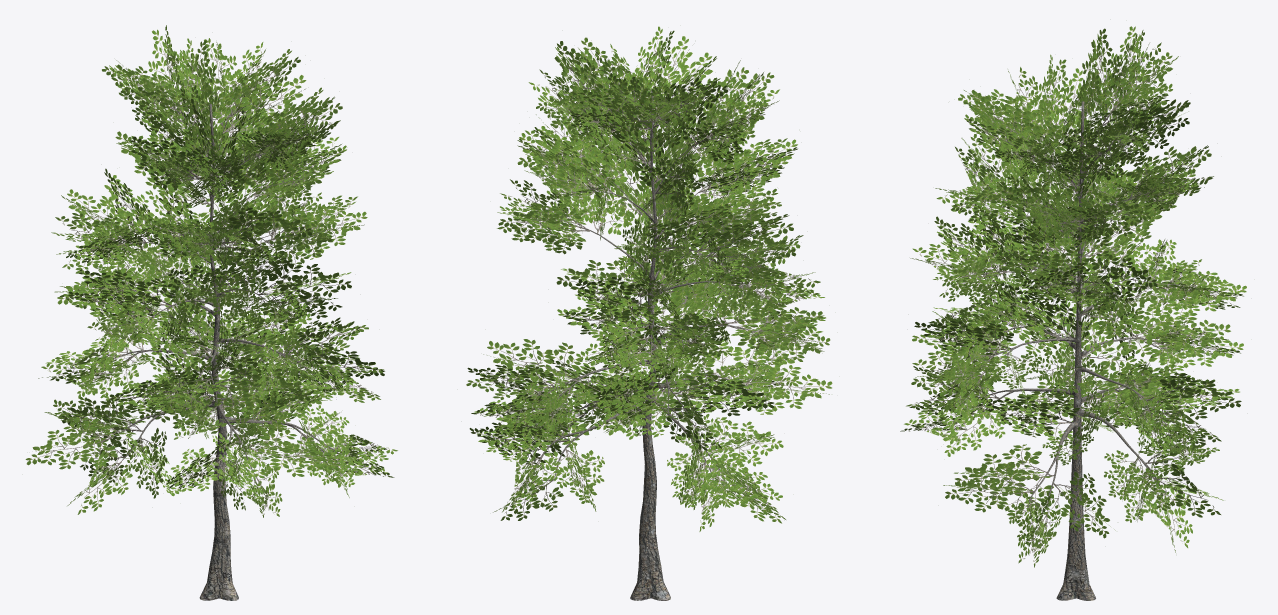
File: tall-tree.lod0.glb
3 views of the same model, side by side, from view 1: azimuth 30°, elevation 25°; view 2: azimuth 150°, elevation 25°; view 3: azimuth 270°, elevation 25° (orthographic). The views are drawn at different scales.
Parts seen in each view (by area): view 1: _2_TP23_Leaf_0, _2_TP23_Trunk_0; view 2: _2_TP23_Leaf_0, _2_TP23_Trunk_0; view 3: _2_TP23_Leaf_0, _2_TP23_Trunk_0.
Part boxes in pixels (box(x1,y1,x2,y2)): _2_TP23_Leaf_0: box(25, 25, 397, 517); _2_TP23_Trunk_0: box(101, 103, 338, 600); _2_TP23_Leaf_0: box(466, 26, 832, 531); _2_TP23_Trunk_0: box(536, 90, 765, 600); _2_TP23_Leaf_0: box(900, 26, 1246, 567); _2_TP23_Trunk_0: box(974, 101, 1167, 600).
Bounding box in the file's own units: 16.89 × 26 × 16.51.
2 materials, 2 textured.
